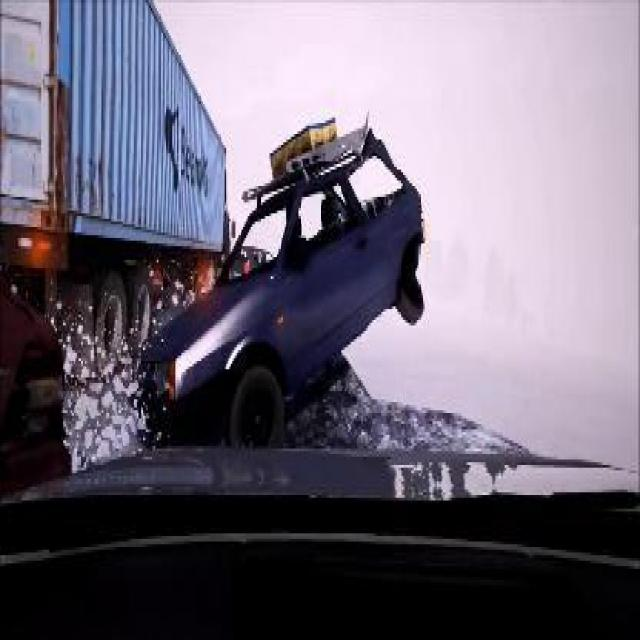accident: (0, 16, 443, 462)
